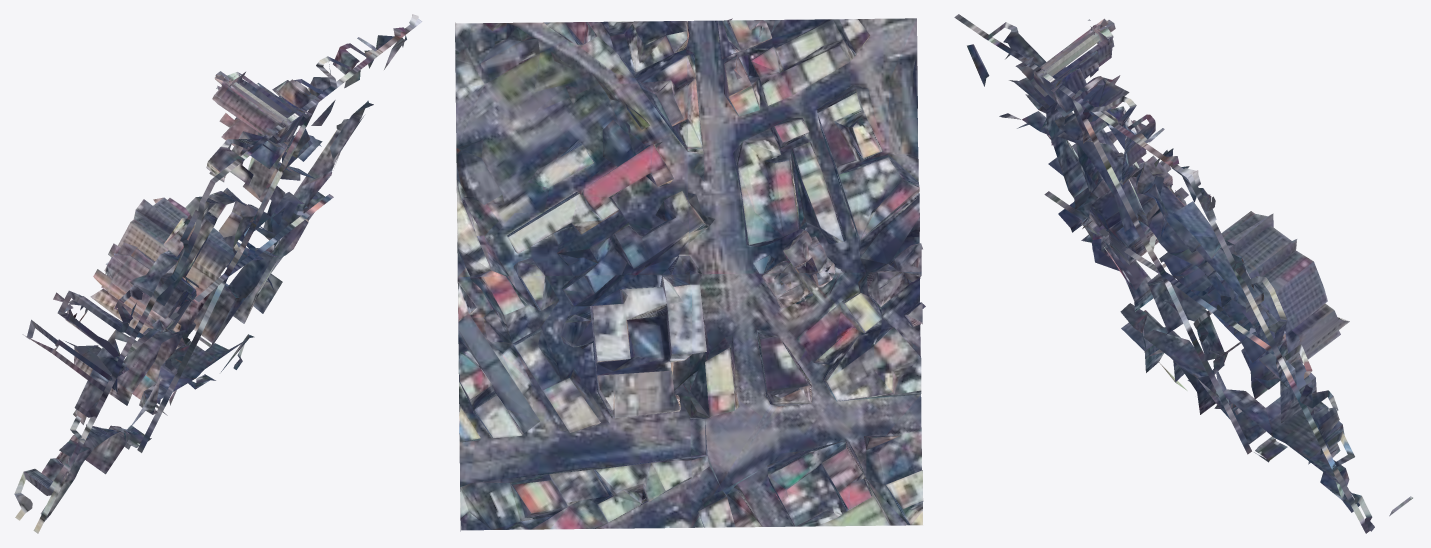
3 views of the same model, side by side, from view 1: azimuth 30°, elevation 25°; view 2: azimuth 150°, elevation 25°; view 3: azimuth 270°, elevation 25° (orthographic). The views are drawn at different scales.
Size of the model in its own units: 313 by 300 by 287.
1 material, 1 textured.
